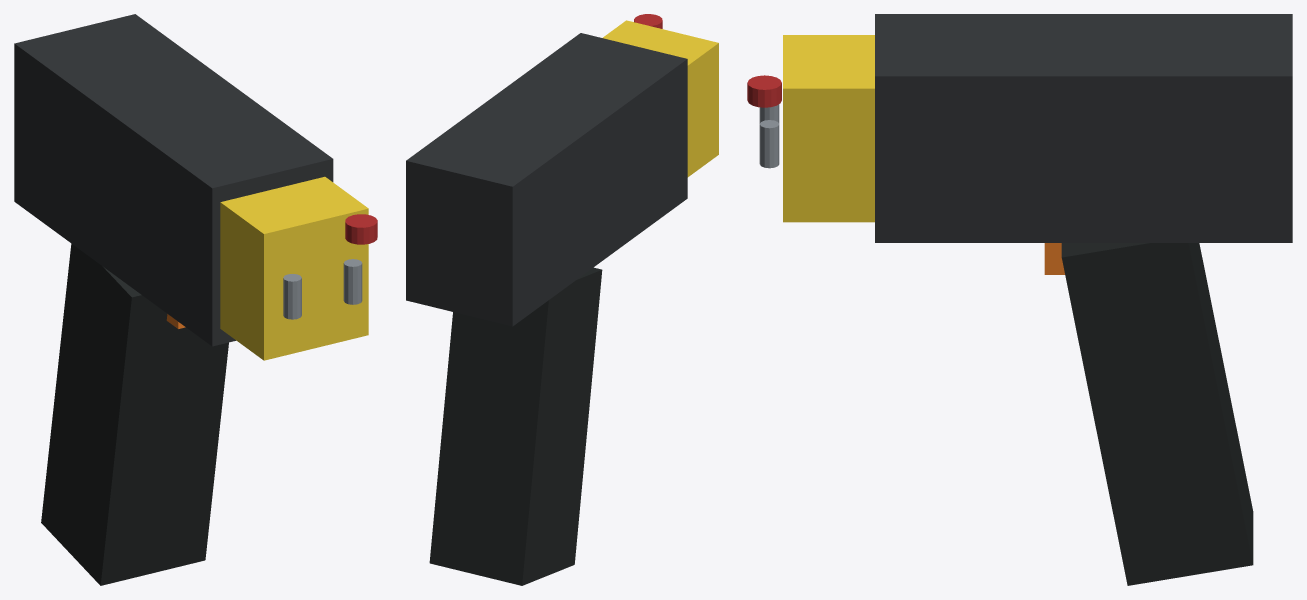
File: taser.glb
3 renders of one model, left to right at view 1: azimuth 30°, elevation 25°; view 2: azimuth 150°, elevation 25°; view 3: azimuth 270°, elevation 25°, orthographic. The views are drawn at different scales.
Parts seen in each view (by area): view 1: Upper, Grip, Cartridge, Laser, Probe_1, Probe_-1; view 2: Upper, Grip, Cartridge; view 3: Upper, Grip, Cartridge, Laser, Probe_1.
Boxes of the visible parts, x1,y1,x2,y2 form: Upper: (14, 14, 333, 346); Grip: (41, 243, 228, 585); Cartridge: (220, 176, 368, 360); Laser: (345, 214, 377, 244); Probe_1: (343, 259, 362, 304); Probe_-1: (283, 274, 301, 319); Upper: (406, 33, 687, 326); Grip: (429, 267, 602, 585); Cartridge: (603, 20, 718, 177); Upper: (875, 14, 1292, 242); Grip: (1061, 243, 1253, 585); Cartridge: (783, 35, 874, 222); Laser: (747, 75, 781, 107); Probe_1: (759, 120, 779, 168).
Bounding box in the file's own units: 0.06 × 0.2309 × 0.222.
